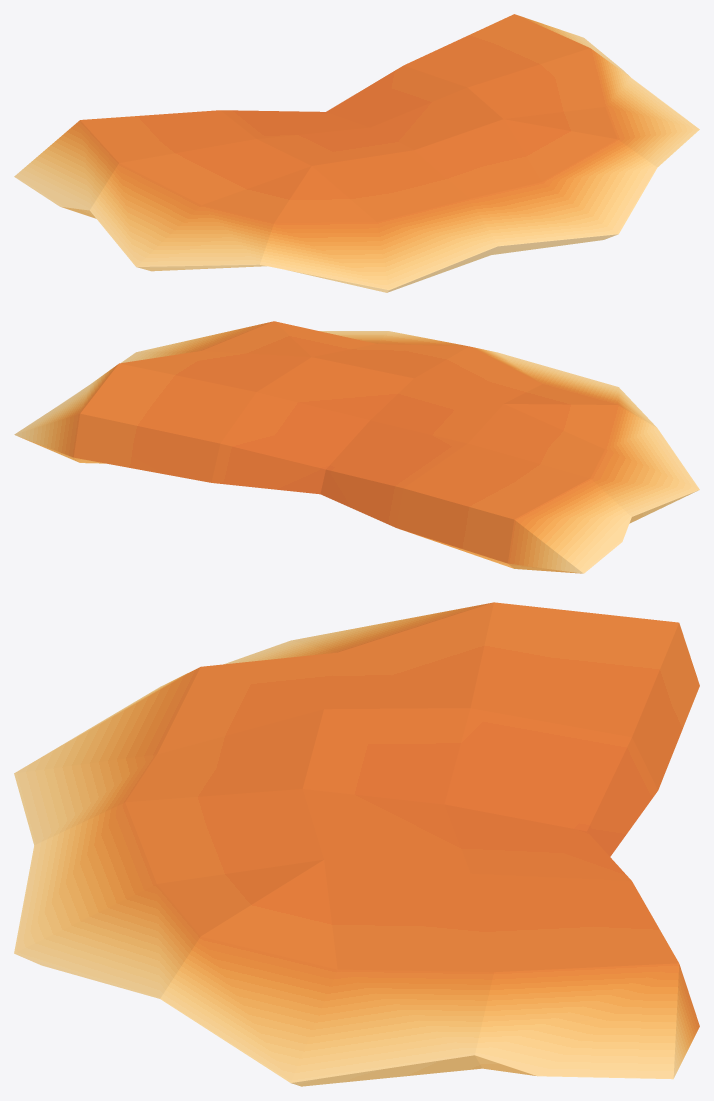
Rendered from ChickenWoods_LargeHalf.glb.
3 views of the same model, one above another, from view 1: azimuth 30°, elevation 25°; view 2: azimuth 150°, elevation 25°; view 3: azimuth 270°, elevation 25° (orthographic). The views are drawn at different scales.
Visible parts, largest first — view 1: largehalf; view 2: largehalf; view 3: largehalf.
Boxes of the visible parts, bbox=[...] form: largehalf: bbox=[14, 14, 699, 292]; largehalf: bbox=[14, 321, 699, 573]; largehalf: bbox=[14, 602, 699, 1086].
Bounding box in the file's own units: 4.03 × 0.4467 × 2.61.
1 material, 1 textured.
